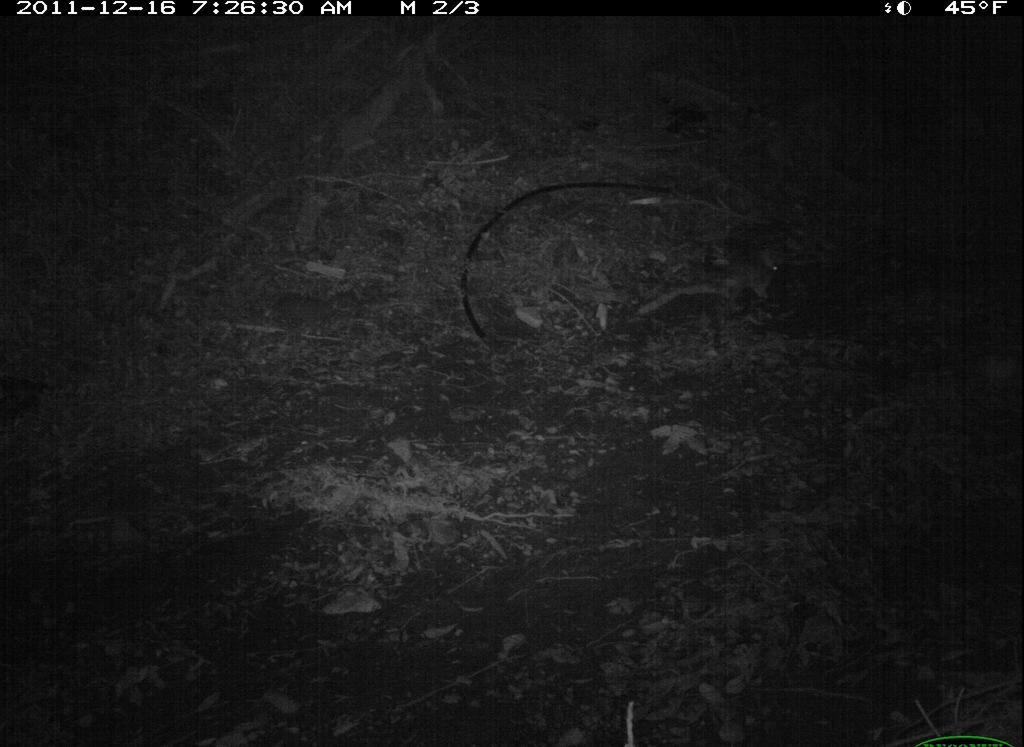rabbit: (699, 230, 795, 326)
